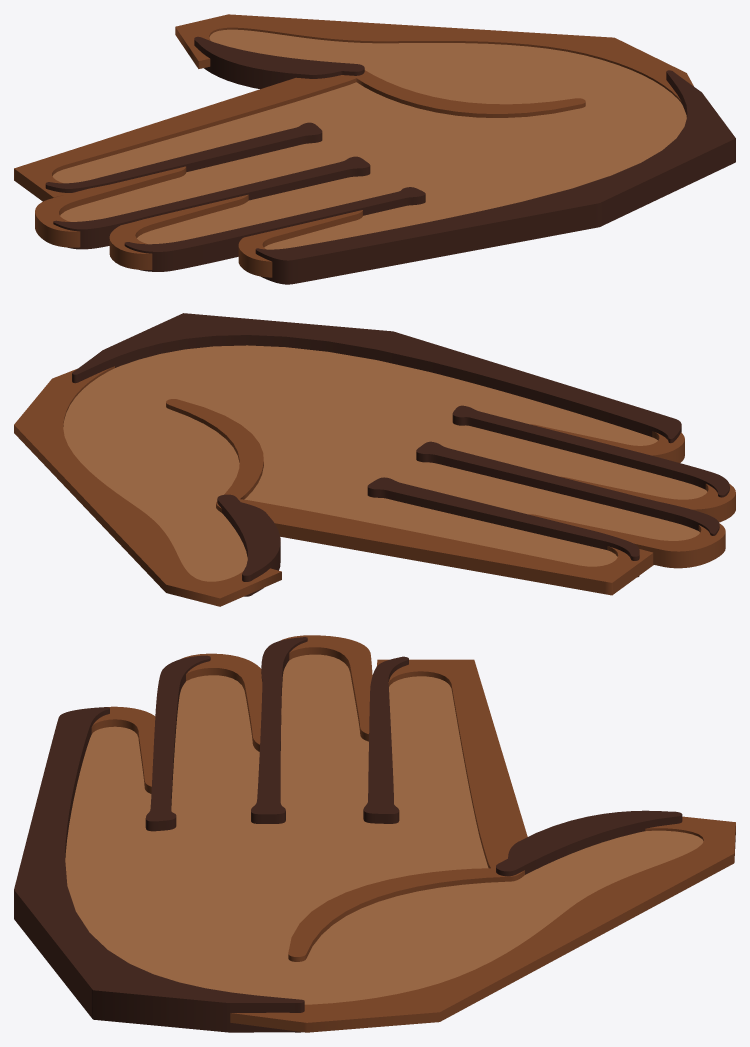
File: emoji_u1faf2_1f3fe.glb
3 views of the same model, one above another, from view 1: azimuth 30°, elevation 25°; view 2: azimuth 150°, elevation 25°; view 3: azimuth 270°, elevation 25° (orthographic). The views are drawn at different scales.
Parts seen in each view (by area): view 1: emoji_u1faf2_1f3fe; view 2: emoji_u1faf2_1f3fe; view 3: emoji_u1faf2_1f3fe.
Part boxes in pixels (x1,y1,x2,y2): emoji_u1faf2_1f3fe: (14,14,735,284); emoji_u1faf2_1f3fe: (14,313,735,606); emoji_u1faf2_1f3fe: (14,635,735,1032).
Size of the model in its own units: 0.0334 by 0.0012 by 0.0267.
